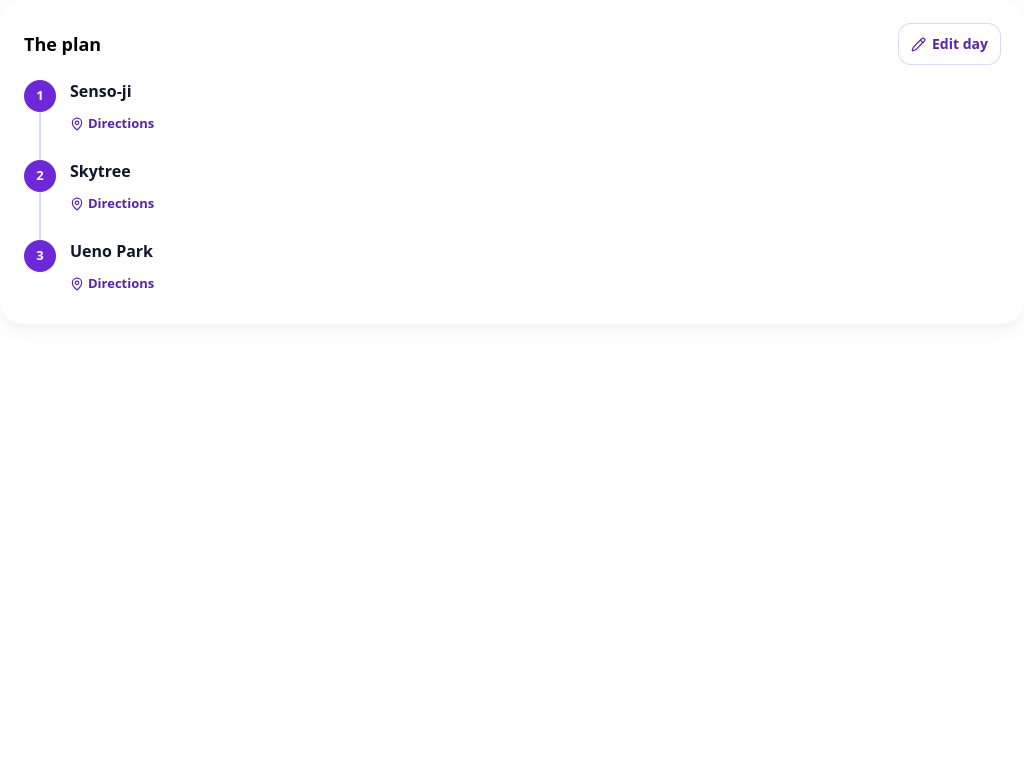
Test case: editing a day › if saving fails, the day goes back to how it was and says so
Click the button "Edit day" at (950, 44), box [899, 24, 1000, 64]
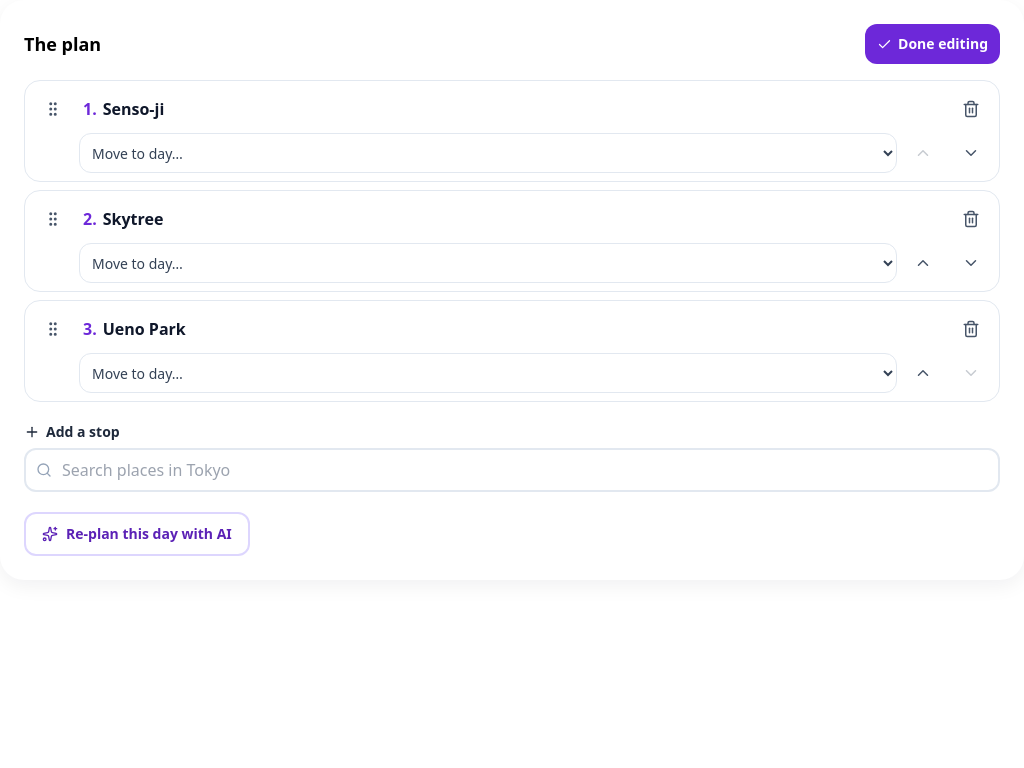
Click the button named "Move Senso-ji down" at (971, 153), box [949, 131, 993, 175]
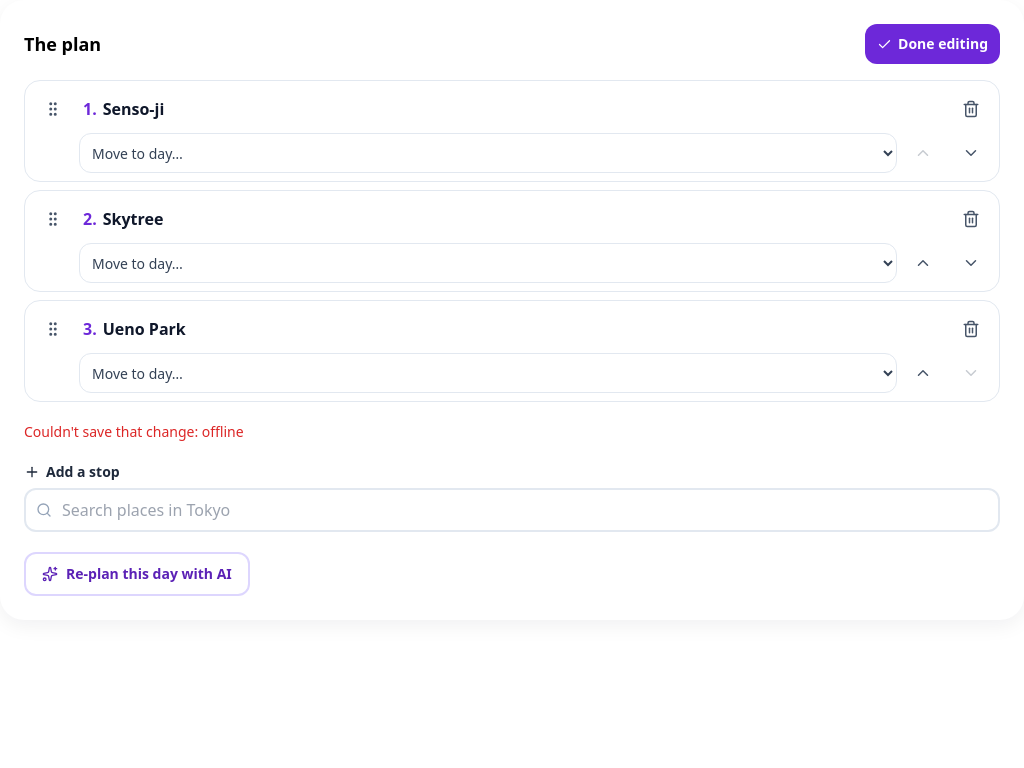
Expected: the text "Senso-ji" is shown, [103, 98, 164, 120]
Expected: the text "Couldn't save that change: offline" is shown, [24, 422, 244, 441]
